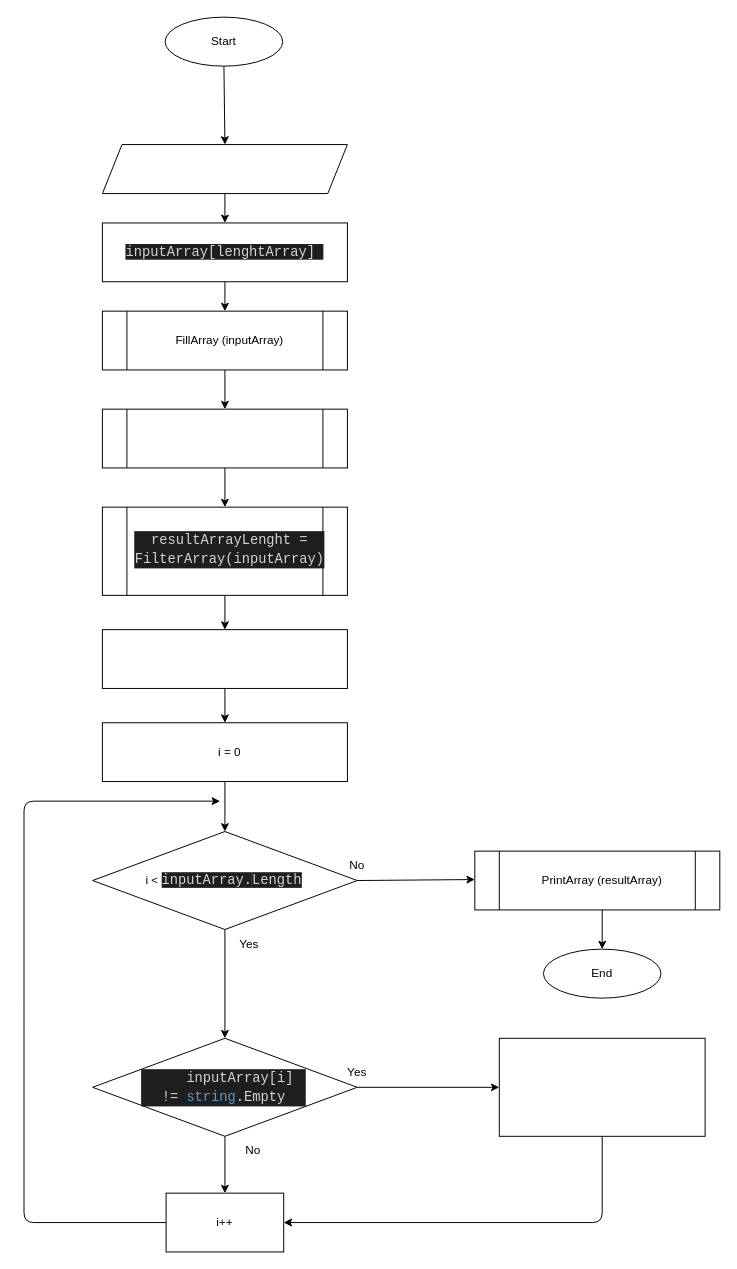
Some shapes in this 737 by 1269 pixel diagram are drawn without their labels. Each missing label, with the box of its shape:
lenghtArray: (101, 144, 347, 194)
PrintArray (inputArray): (101, 408, 347, 468)
resultArray [resultArrayLenght] counter=0: (101, 629, 347, 688)
resultArray[counter] = inputArray[i] counter++: (498, 1037, 705, 1136)
